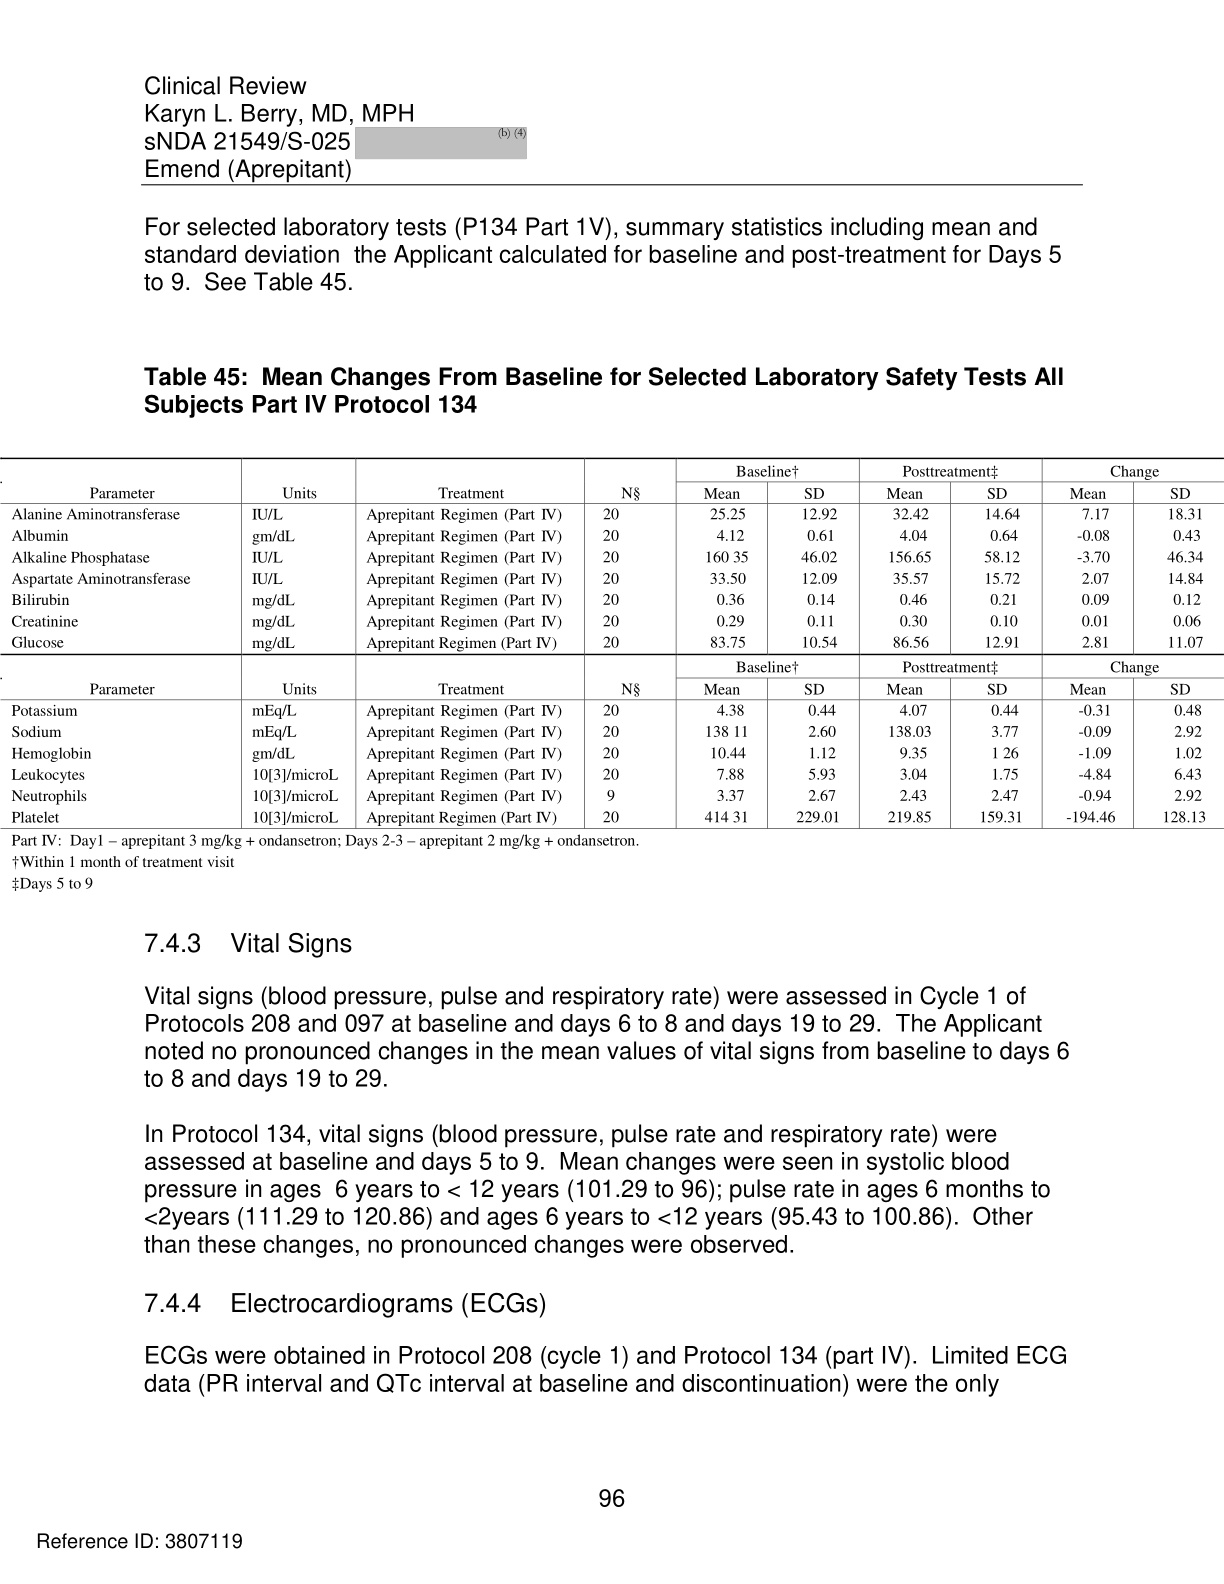partial_lined_merged_cells: (1, 456, 1224, 831)
